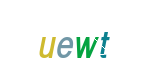E: (33, 0, 113, 80)
T: (50, 0, 130, 80)
U: (7, 0, 87, 80)
W: (35, 0, 115, 80)
